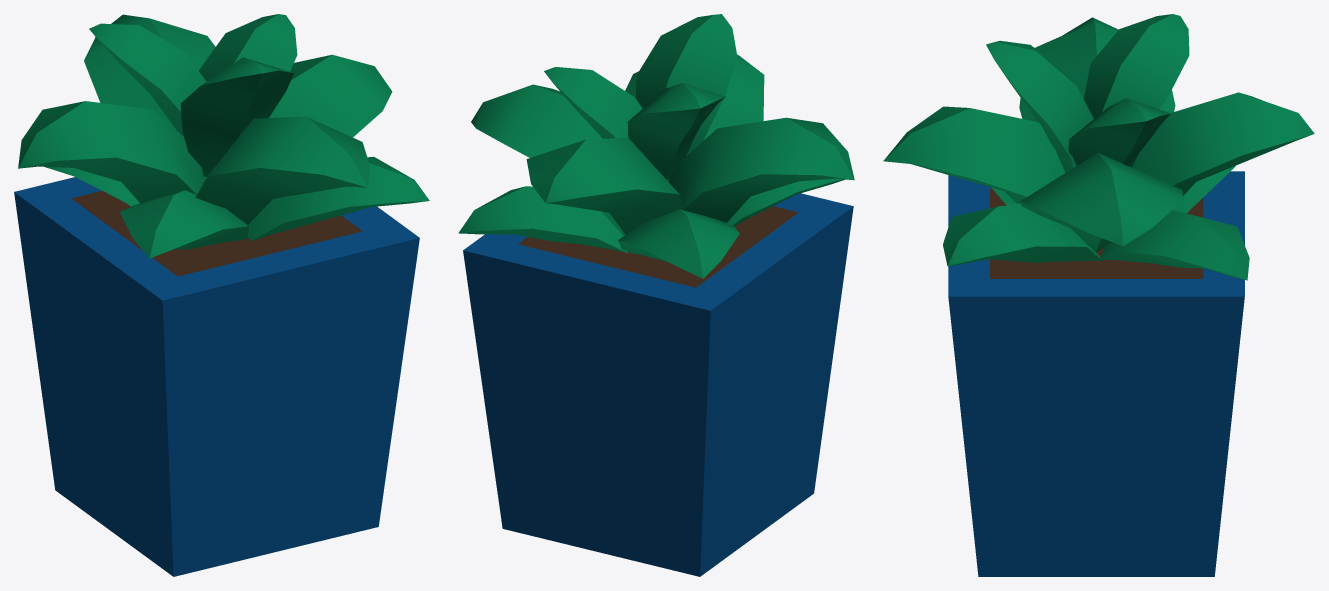
Rendered from plant_aloe_01.fbx.
3 views of the same model, side by side, from view 1: azimuth 30°, elevation 25°; view 2: azimuth 150°, elevation 25°; view 3: azimuth 270°, elevation 25° (orthographic). The views are drawn at different scales.
Visible parts, largest first — view 1: plant_aloe_01; view 2: plant_aloe_01; view 3: plant_aloe_01.
Part boxes in pixels (x1=…): plant_aloe_01: x1=14, y1=14, x2=429, y2=576; plant_aloe_01: x1=458, y1=14, x2=854, y2=576; plant_aloe_01: x1=883, y1=14, x2=1314, y2=576.
Bounding box in the file's own units: 76.48 × 91.97 × 74.83.
